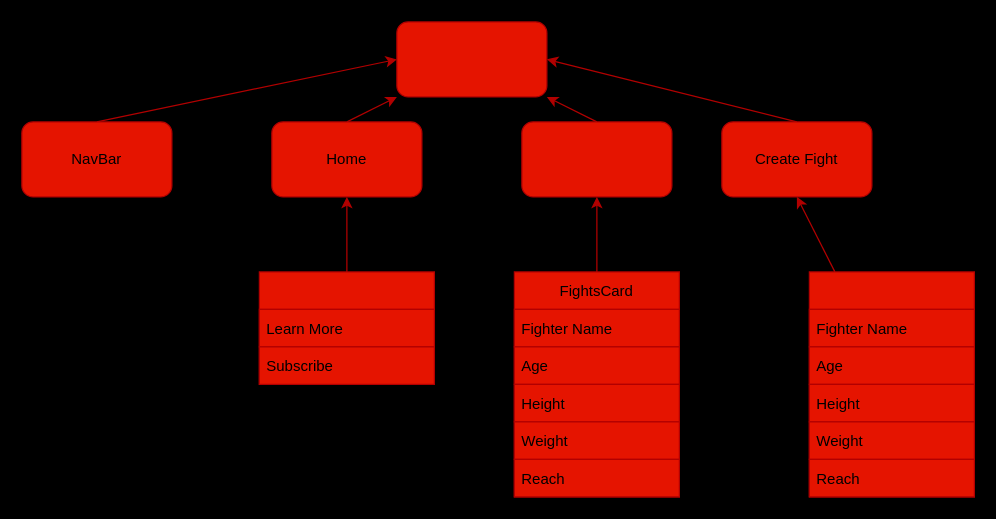
Some shapes in this 996 by 519 pixel diagram are drawn without their labels. Here are the shapes that lost their labels. From the top down, the box of each, then its label:
(396, 21, 547, 97): App
(521, 121, 672, 197): Fights
(258, 271, 434, 384): FrontPage
(808, 271, 974, 497): CreatFightCard
